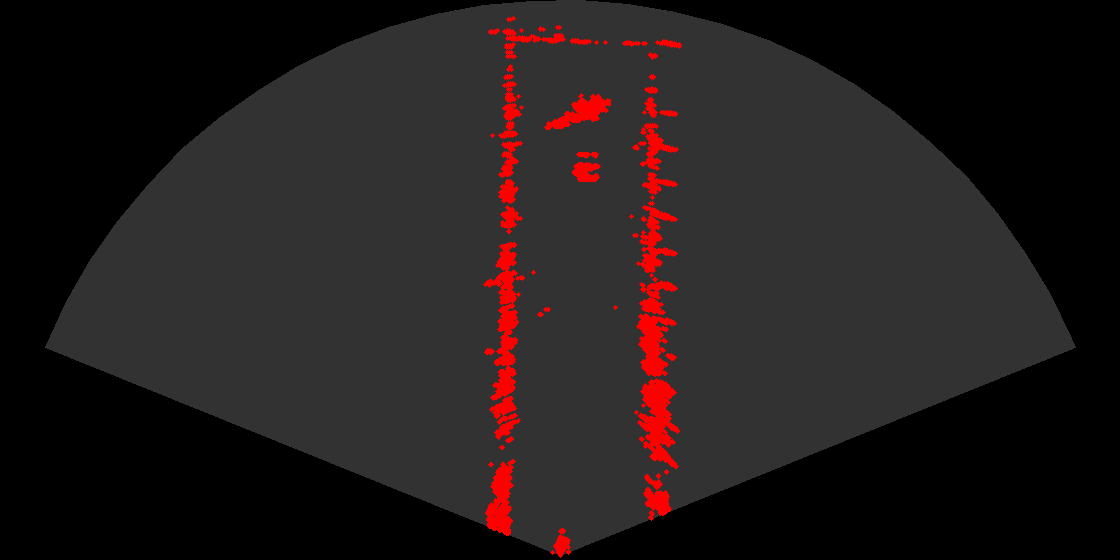ball: (552, 144, 612, 185)
frogman: (543, 87, 611, 134)
